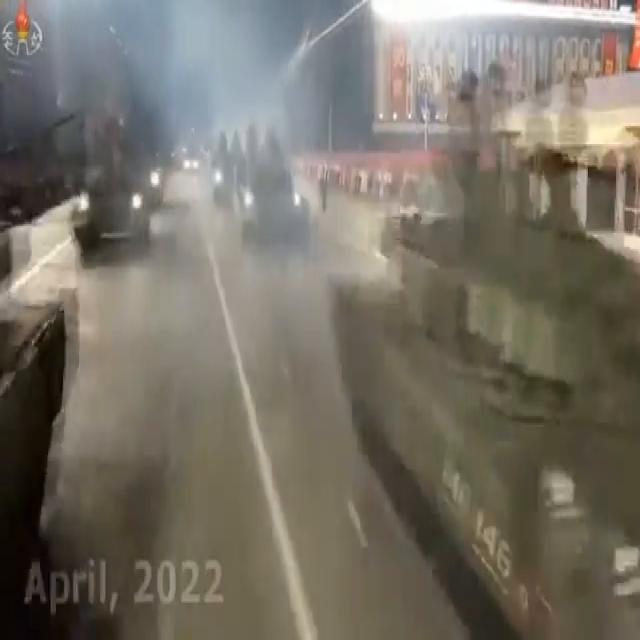north tank: (328, 106, 640, 640), (0, 282, 98, 640), (225, 128, 336, 262), (64, 138, 160, 259)
